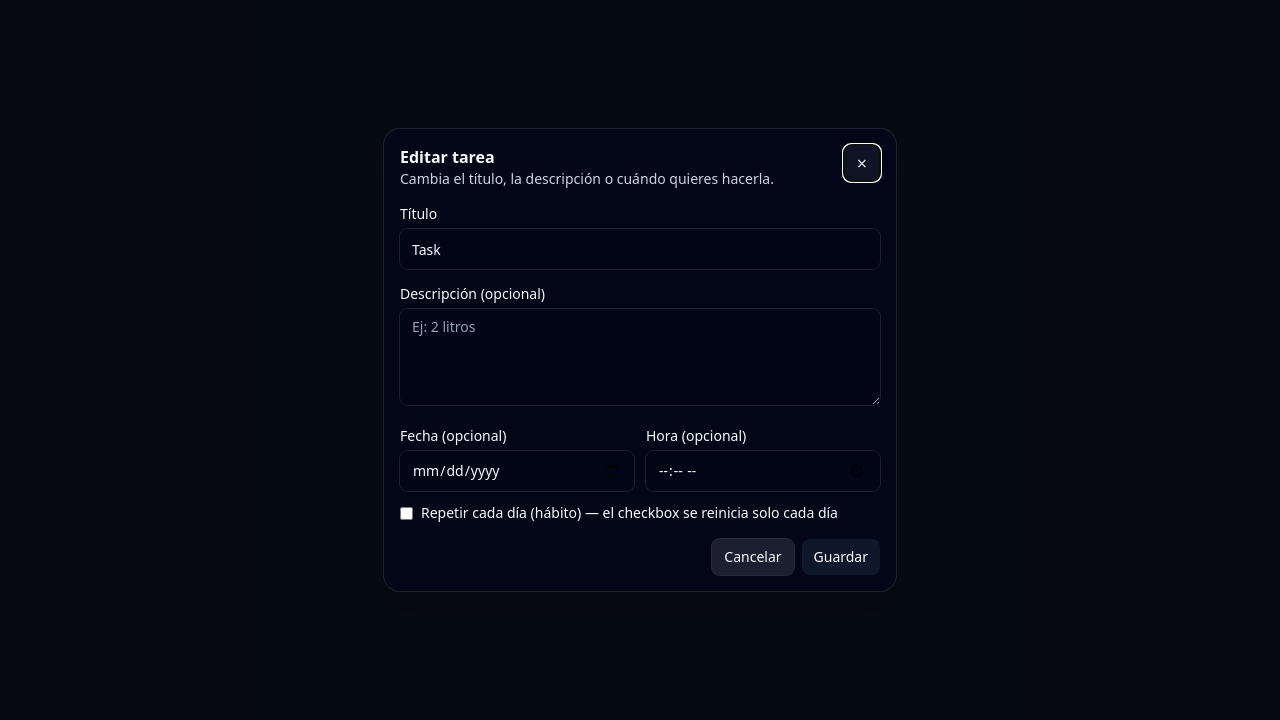
Test: TaskFormModal › shows a generic error message when saving fails with a non-Error value
The width and height of the screenshot is (1280, 720).
Click the button "Guardar" at {"x": 841, "y": 557}, box [802, 539, 880, 575]
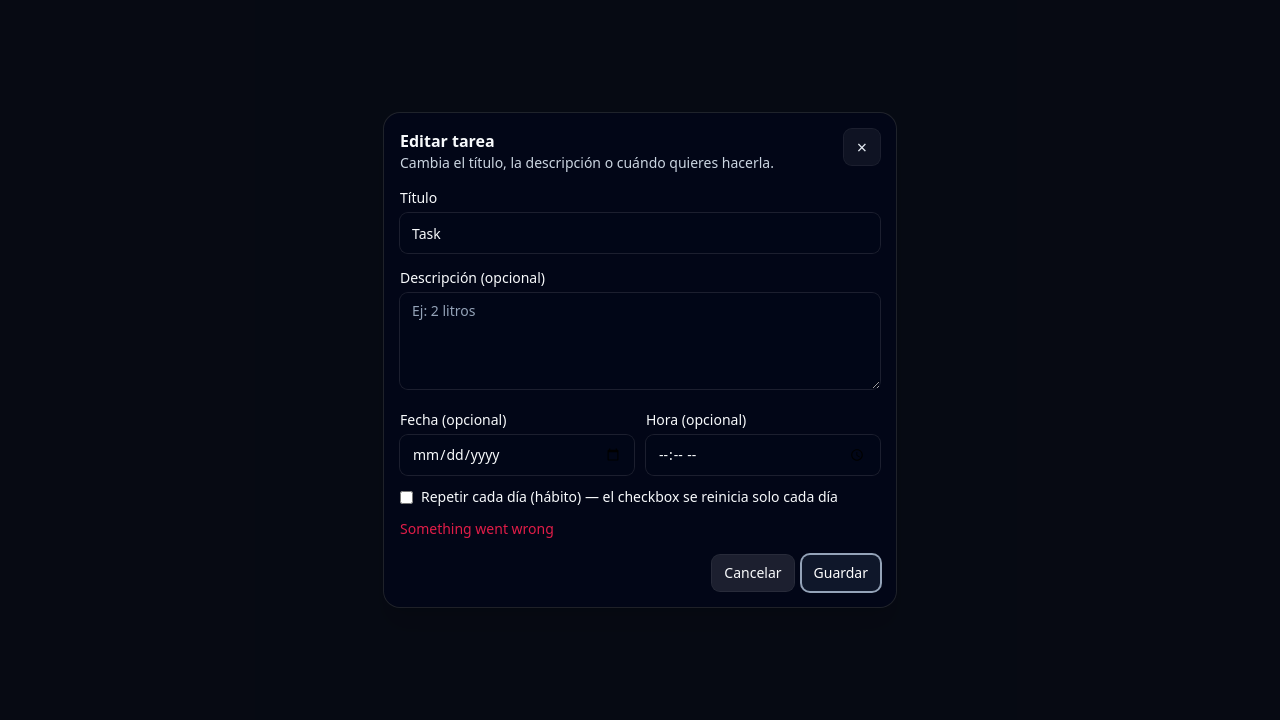
Result: the text "Something went wrong" is shown at [400, 519, 554, 538]
